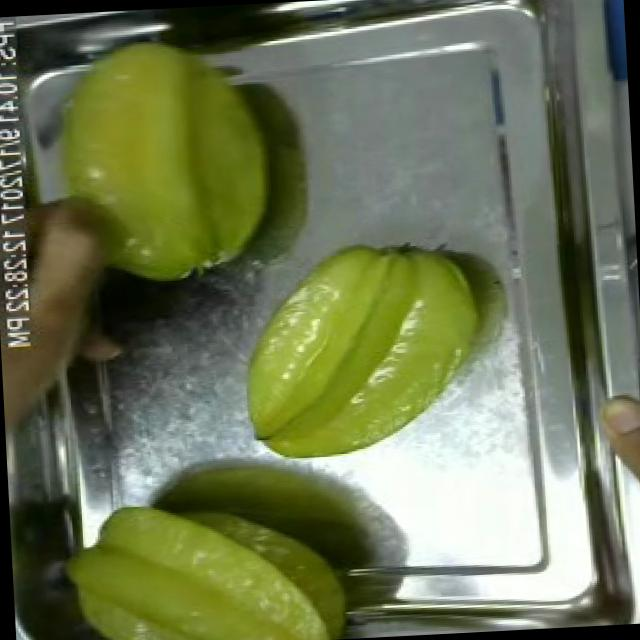fruit: (29, 18, 294, 300), (229, 225, 501, 474), (53, 483, 359, 640), (592, 385, 640, 530)
